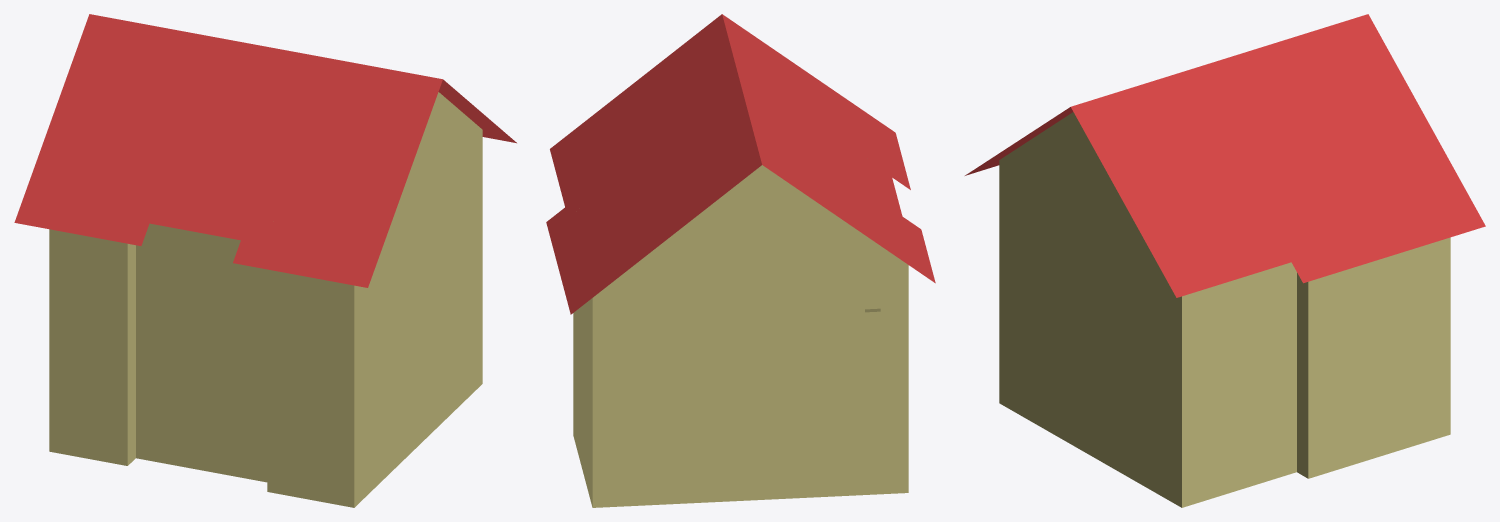
3 views of the same model, side by side, from view 1: azimuth 30°, elevation 25°; view 2: azimuth 150°, elevation 25°; view 3: azimuth 270°, elevation 25° (orthographic). The views are drawn at different scales.
Size of the model in its own units: 15.04 by 15.45 by 11.61.
